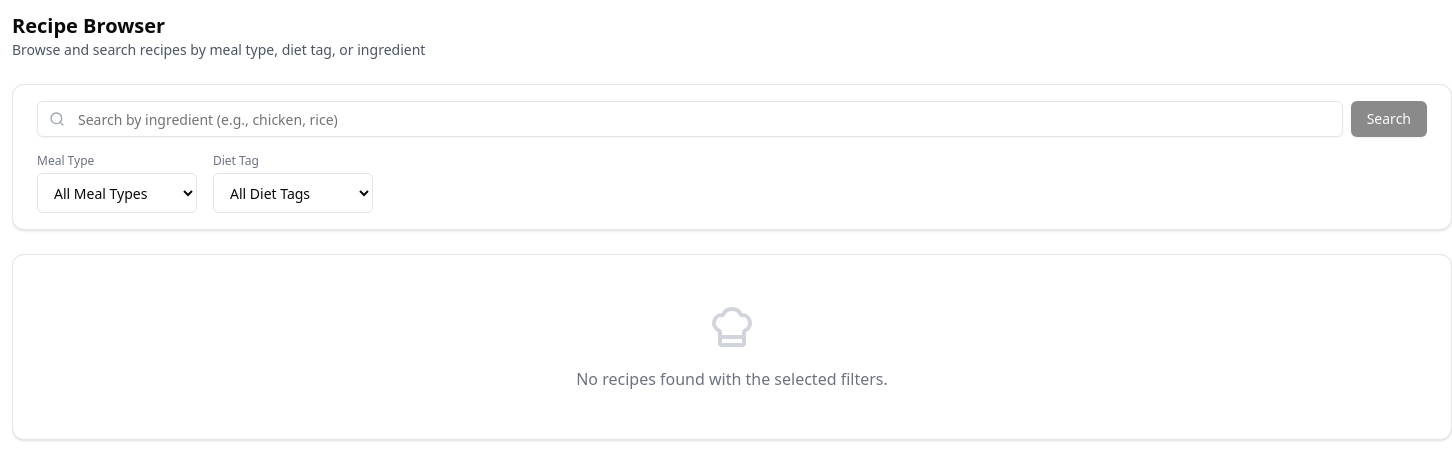
RecipeBrowser › ingredient search › should show search results when searching
In the field with placeholder "Search by ingredient (e.g., chicken, rice)": (690,119) [37,101,1343,137], type "chicken"
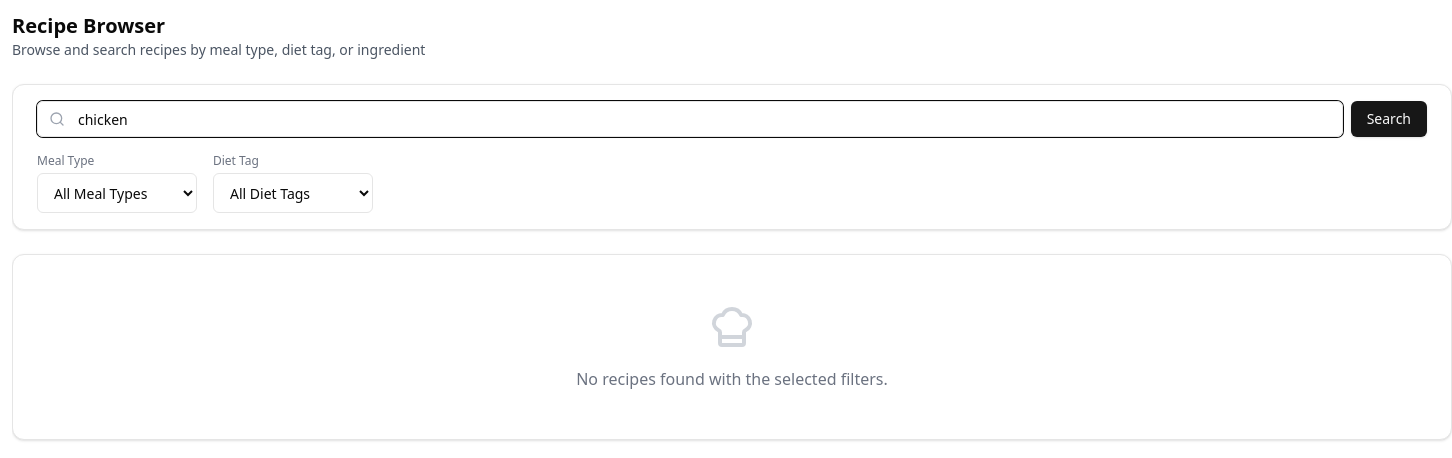
Click the button "Search": (1389,119) [1351,101,1427,137]
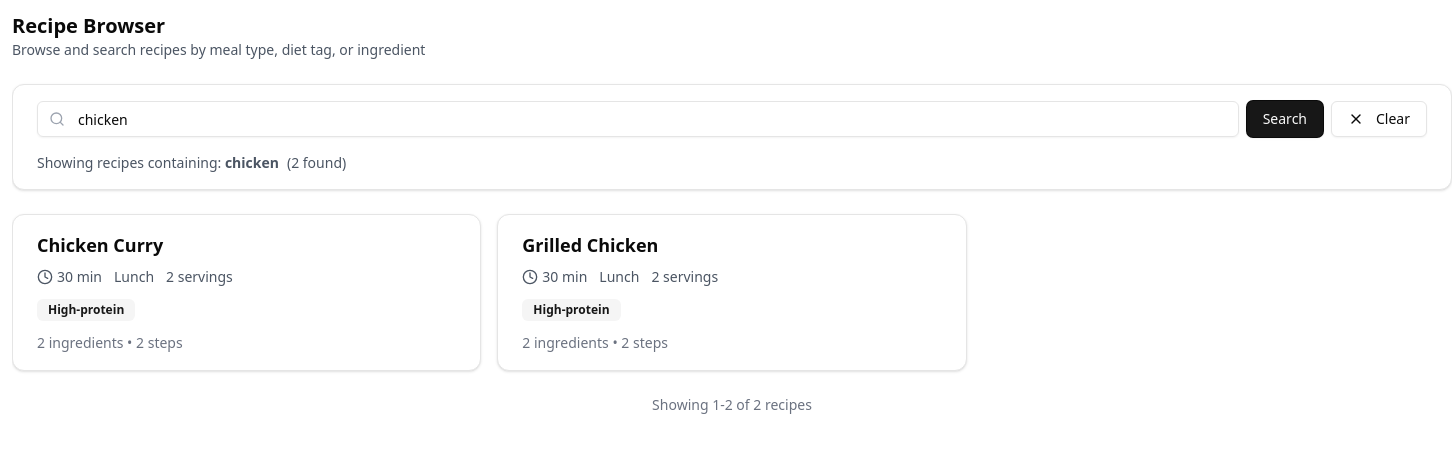
Now the heading "Chicken Curry" is shown, box [37,233,163,257]
Now the heading "Grilled Chicken" is shown, box [522,233,658,257]
